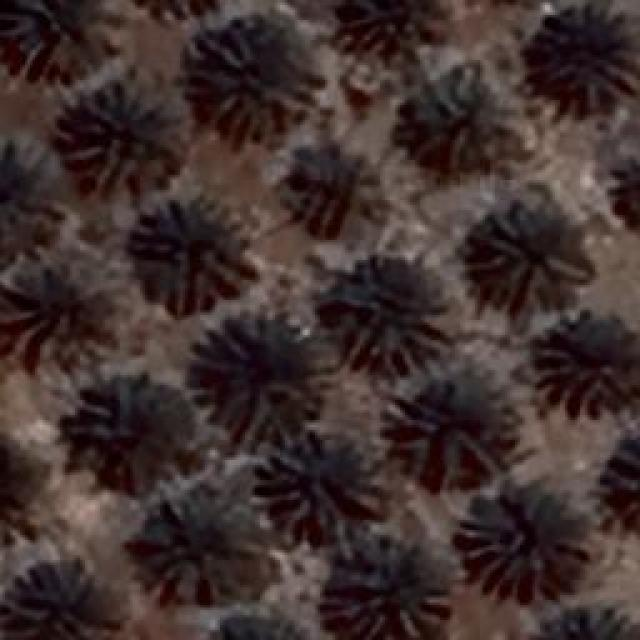PalmTree: (94, 110, 591, 368), (20, 104, 94, 488), (382, 374, 520, 488), (187, 321, 325, 429), (455, 488, 583, 600), (320, 530, 452, 635), (332, 260, 458, 370), (60, 82, 188, 188), (62, 380, 182, 492), (255, 434, 383, 538), (140, 190, 250, 310), (190, 32, 312, 140), (521, 0, 634, 115), (138, 490, 252, 602), (405, 65, 520, 173), (0, 260, 112, 370), (468, 205, 588, 305), (291, 140, 384, 242), (0, 0, 125, 72), (0, 562, 110, 640), (0, 142, 65, 256), (340, 0, 440, 52), (592, 437, 638, 535), (522, 600, 636, 638), (196, 611, 317, 640), (610, 148, 640, 235), (195, 620, 318, 640), (119, 0, 229, 16), (119, 0, 230, 11)
